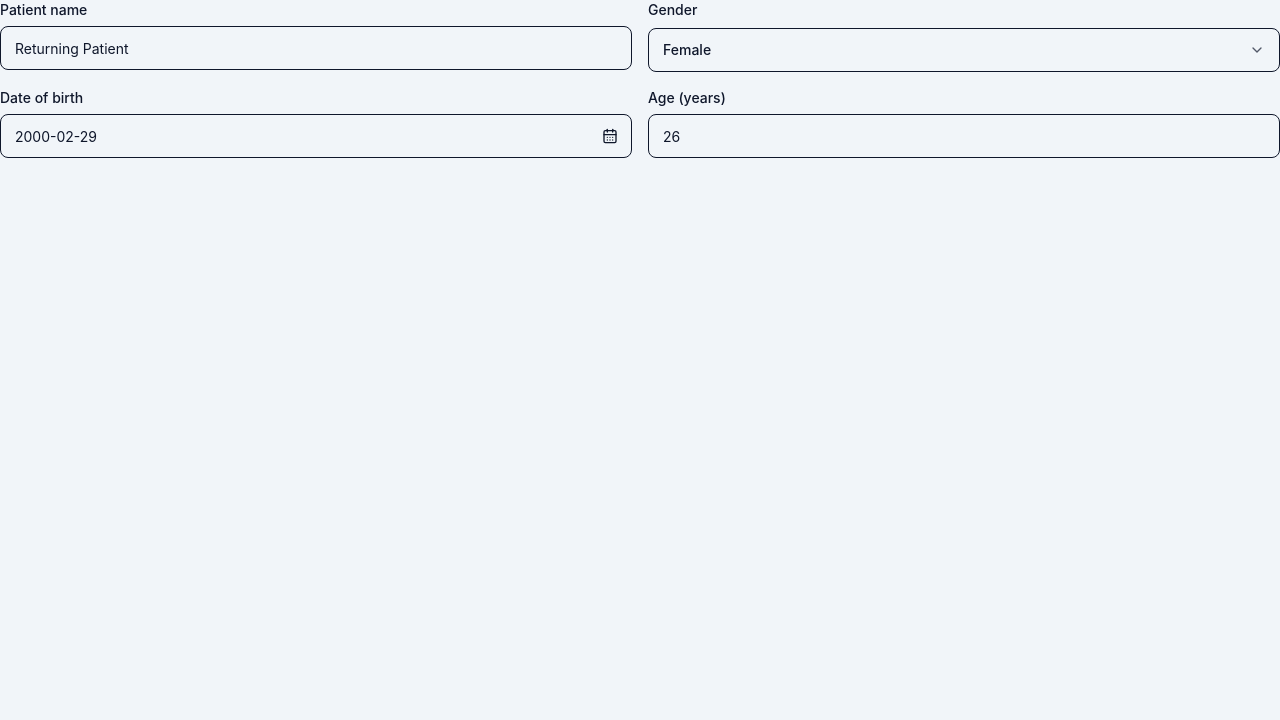
Test case: DOB calendar excludes future years and supports the app calendar
The image size is (1280, 720).
Click the button named "Choose date" at (610, 136), box top-left (588, 114), bottom-right (632, 158)
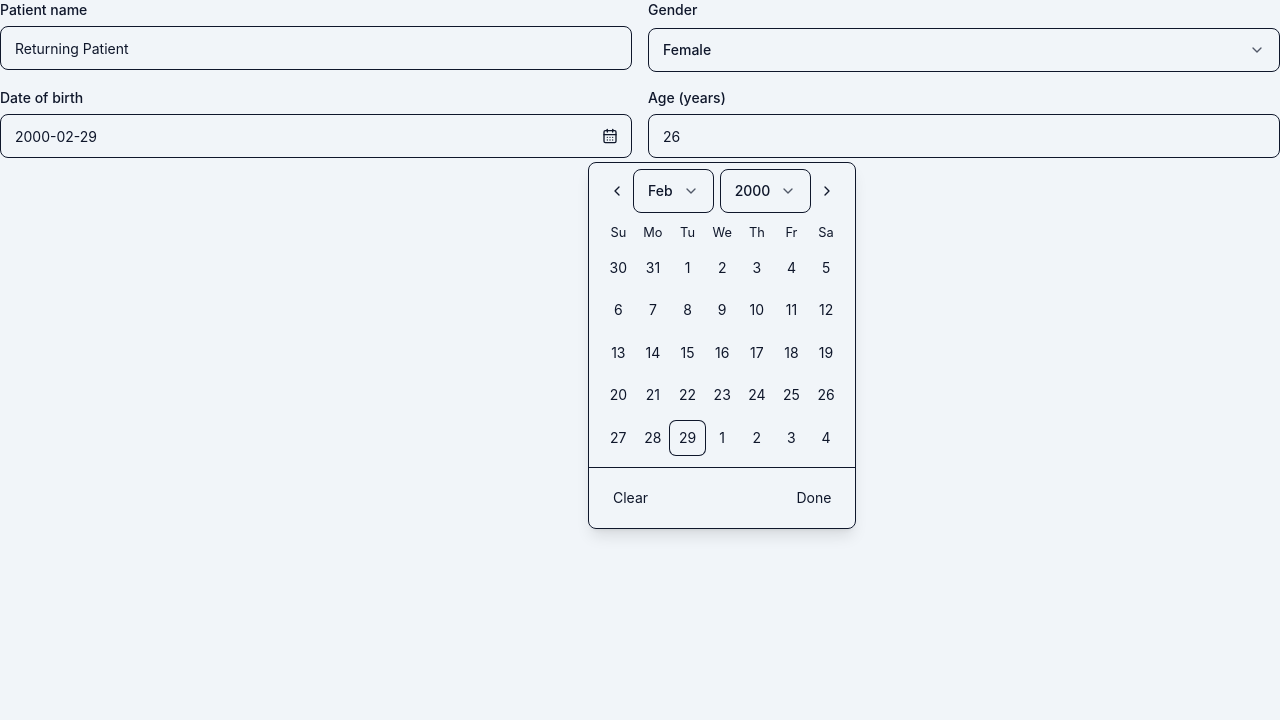
Now the table is shown, box top-left (601, 223), bottom-right (843, 455)
Now the dropdown named "Choose the Year" is shown, box top-left (720, 169), bottom-right (811, 213)
